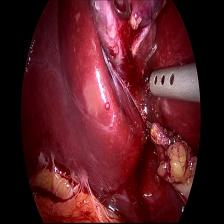Irrigator: (148, 59, 192, 106)
